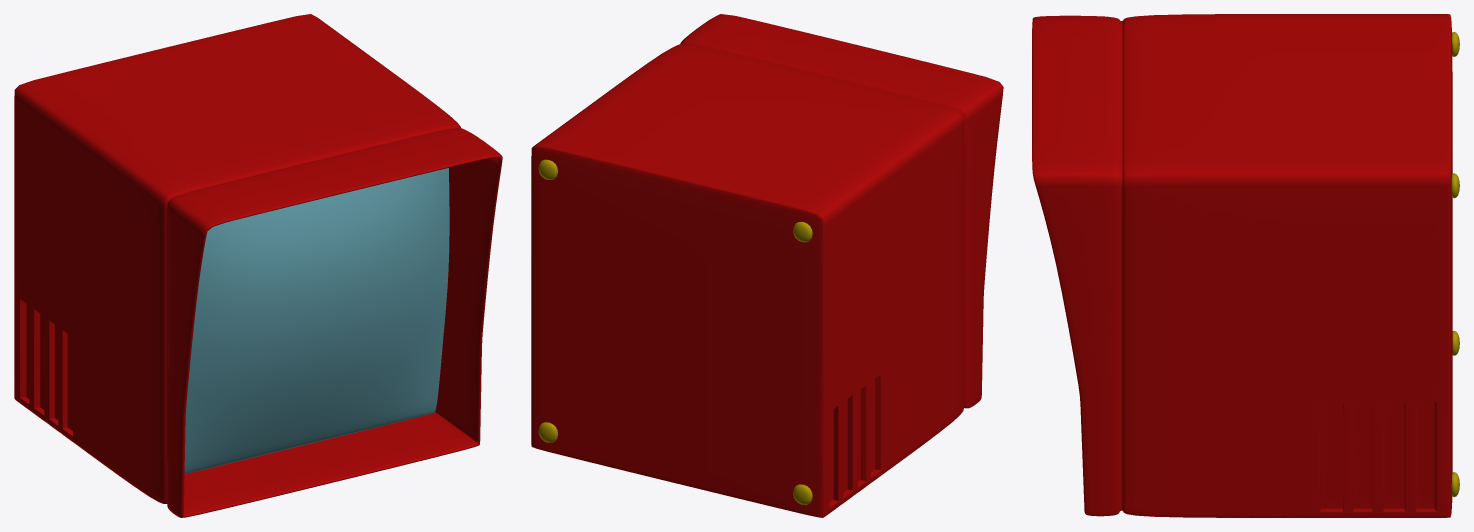
File: Monitor.fbx
3 views of the same model, side by side, from view 1: azimuth 30°, elevation 25°; view 2: azimuth 150°, elevation 25°; view 3: azimuth 270°, elevation 25° (orthographic). The views are drawn at different scales.
Visible parts, largest first — view 1: MonitorBase, Glass; view 2: MonitorBase, Screws; view 3: MonitorBase, Screws.
Part boxes in pixels (x1,y1,x2,y2): MonitorBase: [14, 14, 502, 517]; Glass: [184, 168, 449, 473]; MonitorBase: [531, 14, 1003, 517]; Screws: [538, 159, 812, 504]; MonitorBase: [1032, 14, 1452, 517]; Screws: [1451, 32, 1459, 497].
Bounding box in the file's own units: 30.38 × 30.37 × 33.79.
